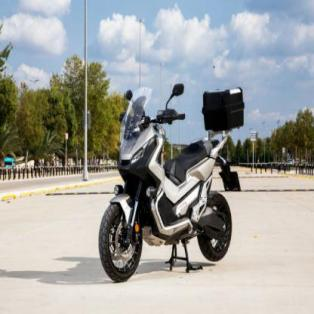Motocicleta: (99, 68, 245, 282)
